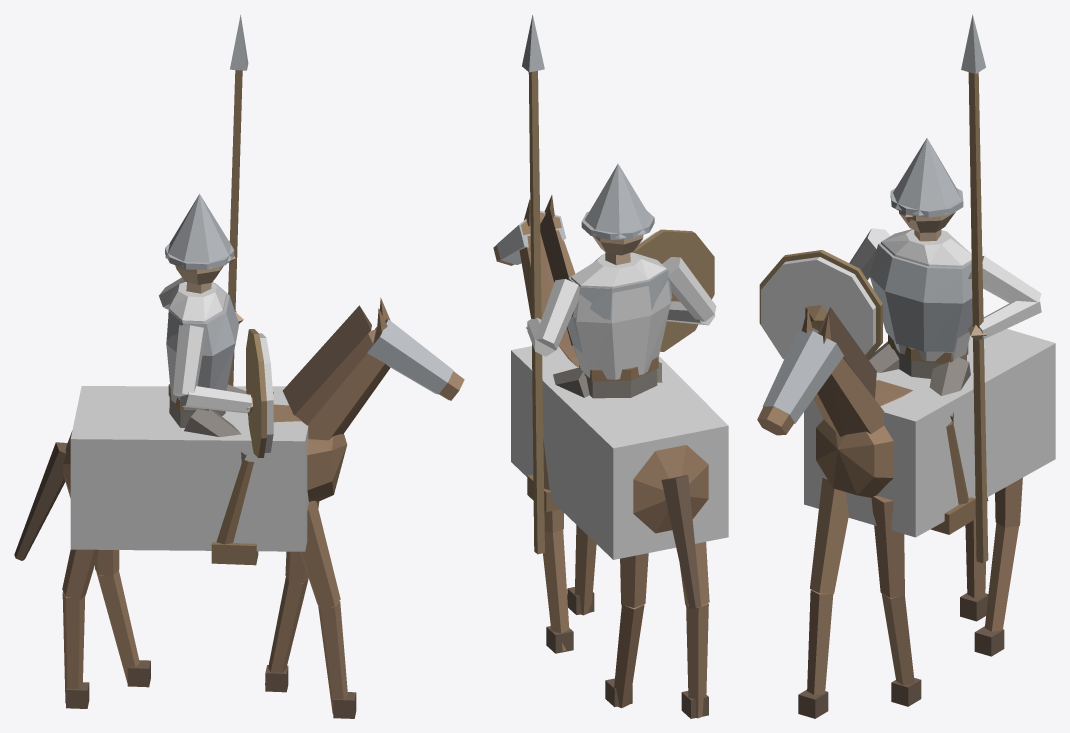
The model's file is cataphract.glb.
The picture shows the model from 3 angles, left to right: view 1: azimuth 30°, elevation 25°; view 2: azimuth 150°, elevation 25°; view 3: azimuth 270°, elevation 25°; orthographic projection. The views are drawn at different scales.
Visible parts, largest first — view 1: LOD0; view 2: LOD0; view 3: LOD0.
Boxes of the visible parts, box(x1,y1,x2,y2) form: LOD0: box(14, 15, 464, 718); LOD0: box(493, 15, 728, 718); LOD0: box(757, 14, 1055, 718).
Size of what is drawn, in the model's own units: 0.9264 by 1.77 by 0.7003.
